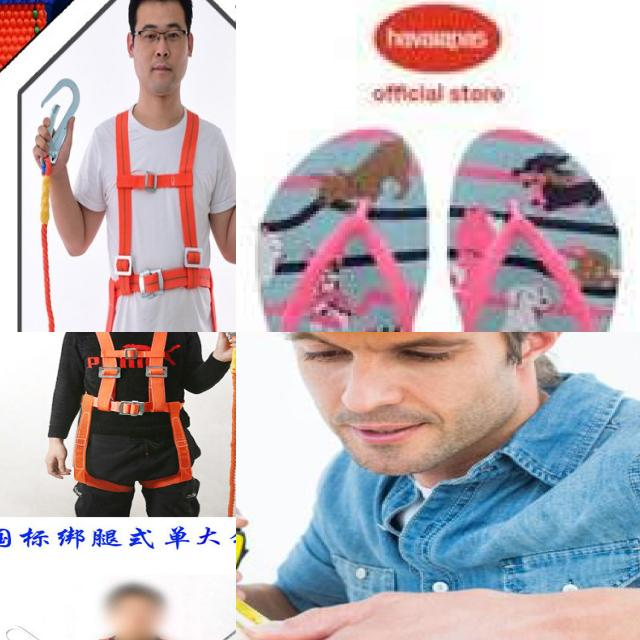Harness: (105, 94, 219, 332), (62, 332, 203, 490)
No_Ear-Protection: (510, 332, 567, 369)
No_Glasses: (290, 332, 484, 370)
Sandals: (236, 91, 640, 332)
face_nomask: (298, 362, 518, 474)
hand_noglove: (250, 589, 640, 640)
